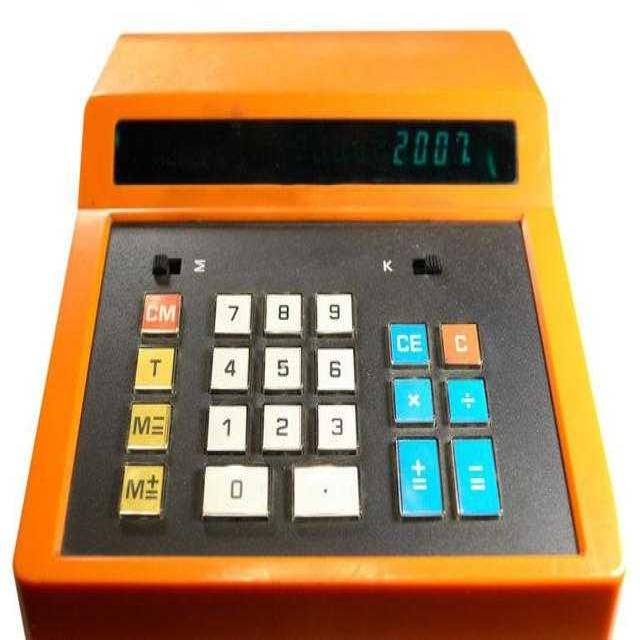Calculator: (11, 27, 626, 637)
